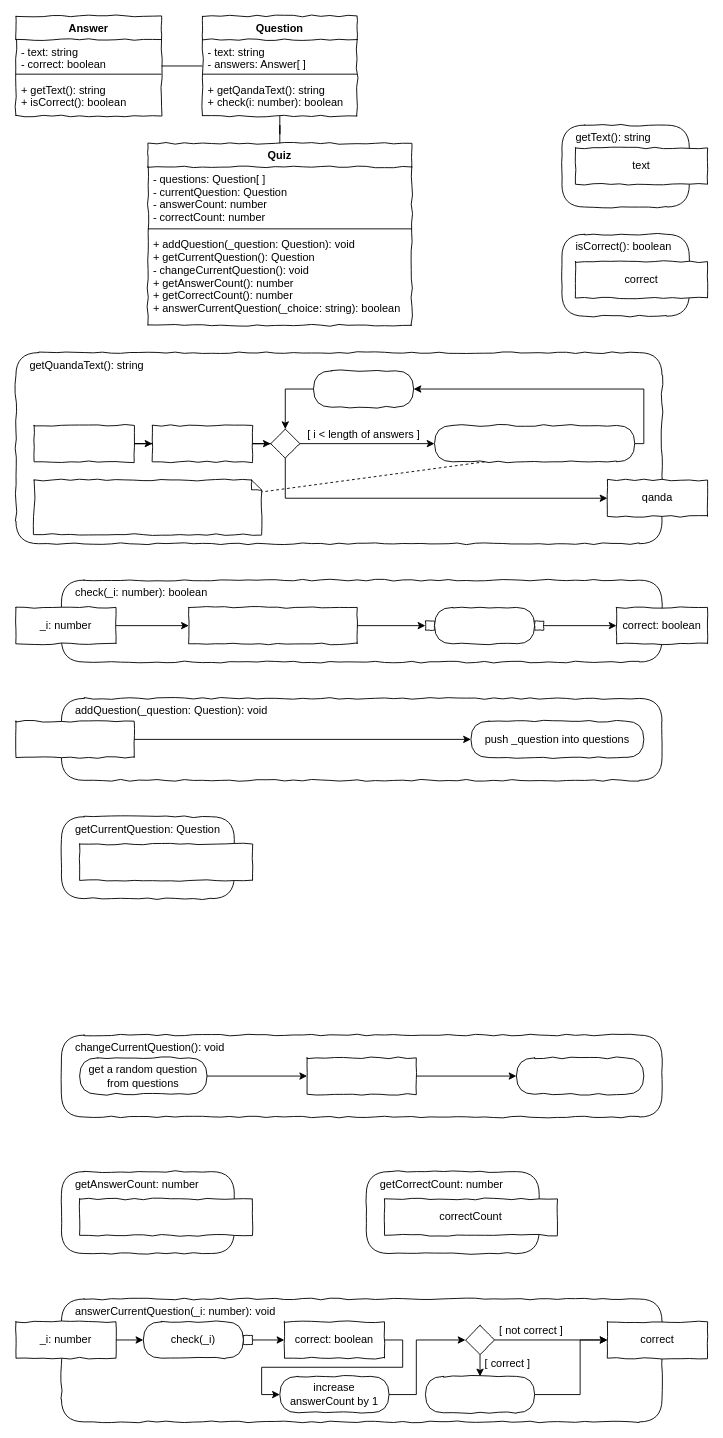
This 723x1438 diagram has some shape labels left out. The centre of each missing label's shape, as x and y in pixels:
_question: Question: point (74, 739)
answer: Answer = answers[ _i ]: point (272, 625)
answerCount: point (166, 1216)
concat qanda and answer text: point (534, 443)
currentQuestion: point (166, 861)
i: number = 0: point (202, 443)
increase correctCount by 1: point (480, 1394)
increase i by 1: point (363, 388)
isCorrect(answer): point (484, 625)
it should look like this: What is the sum of 2 and 2? A: 3 B: 4 C: 5 ...: point (147, 507)
qanda: string = text: point (83, 443)
question: Question: point (361, 1075)
set currentQuestion to question: point (580, 1075)
